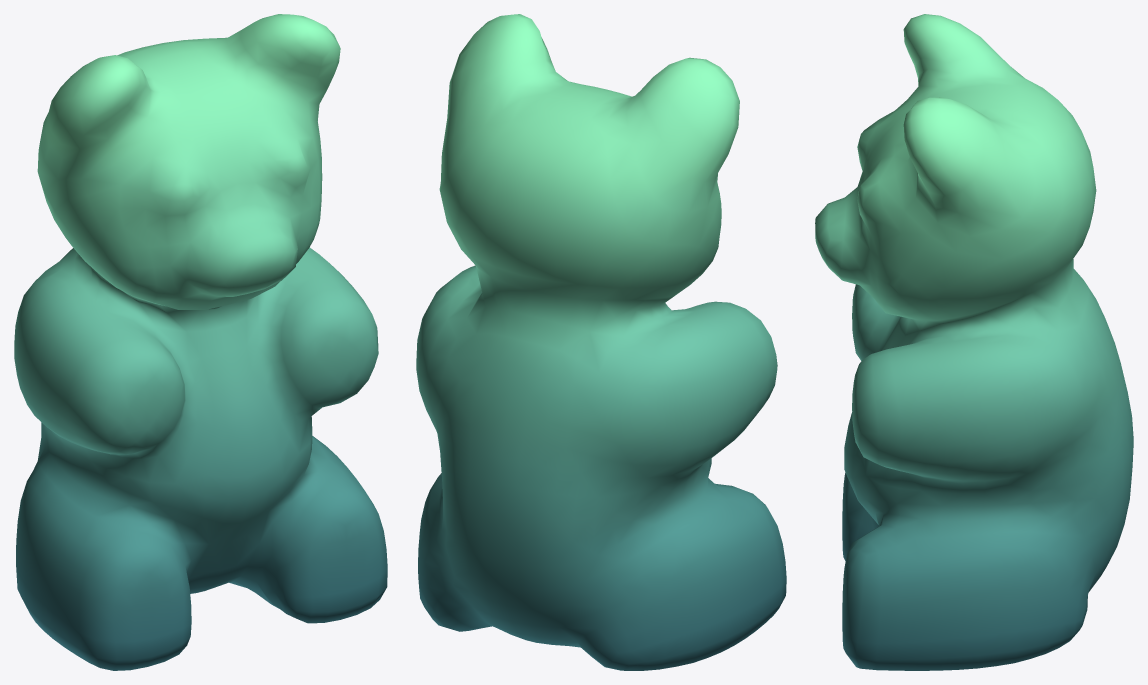
The model's file is candy_glass_17.fbx.
3 renders of one model, left to right at view 1: azimuth 30°, elevation 25°; view 2: azimuth 150°, elevation 25°; view 3: azimuth 270°, elevation 25°, orthographic. The views are drawn at different scales.
Visible parts, largest first — view 1: c_g_17; view 2: c_g_17; view 3: c_g_17.
Boxes of the visible parts, <box> form: c_g_17: <box>14,14,387,670</box>; c_g_17: <box>416,14,786,670</box>; c_g_17: <box>815,14,1133,670</box>.
Size of the model in its own units: 139 by 245 by 129.
